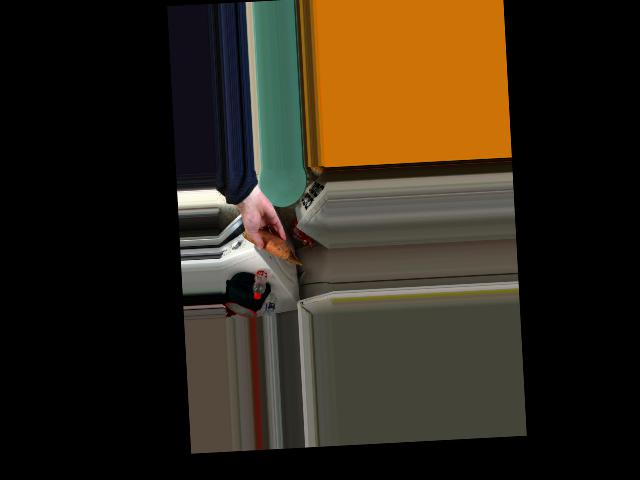sweet_potato: (252, 228, 286, 260)
